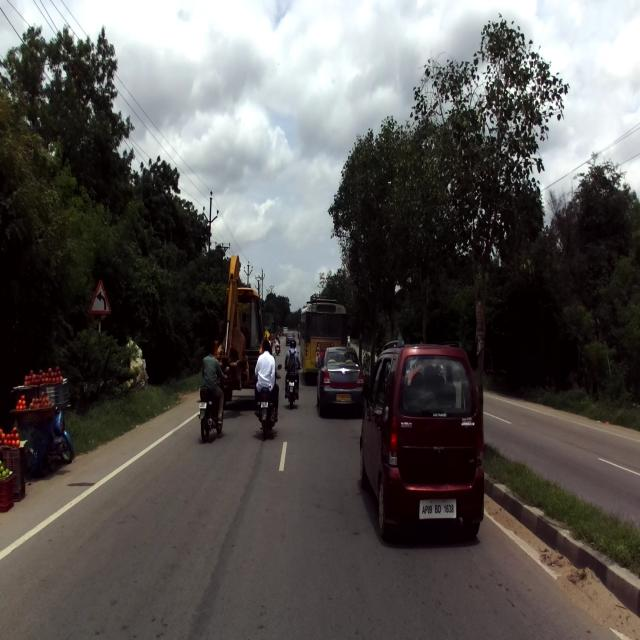Car_Maruti-Suzuki: (358, 338, 485, 536)
motorcycle_Hero: (198, 364, 230, 442)
motorcycle_Honda: (256, 361, 282, 441)
